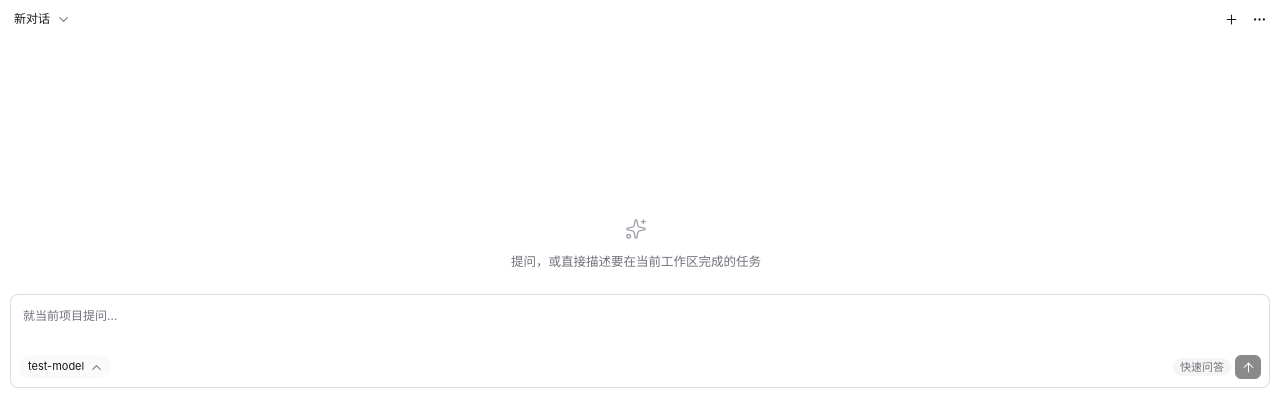
Test: preserves a new draft typed while the previous question is being saved
This screenshot has width=1280, height=405.
Type "First question" into the text box named "向 AI 提问".
click(640, 329); type("First question")  # box x1=19 y1=303 x2=1261 y2=355
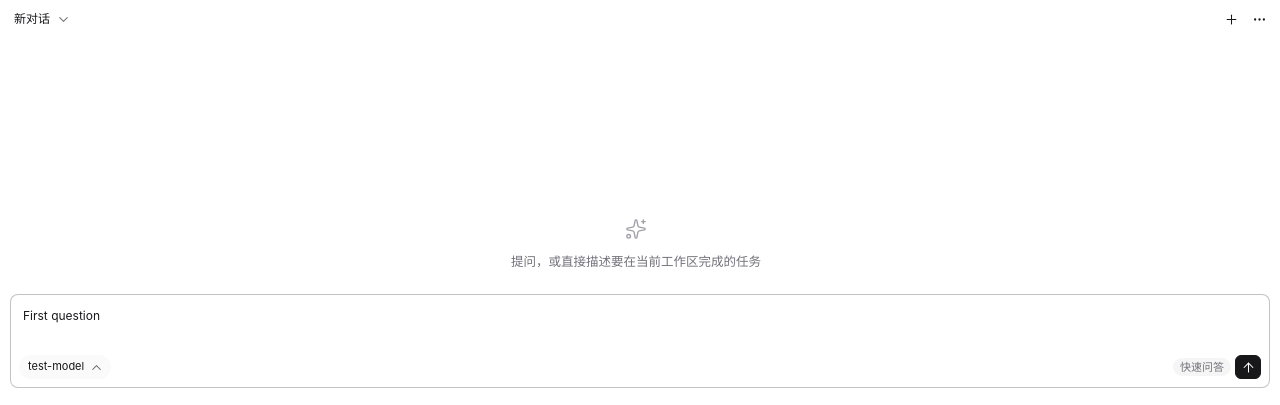
Click the button named "发送".
click(1248, 367)  # box x1=1235 y1=355 x2=1261 y2=379
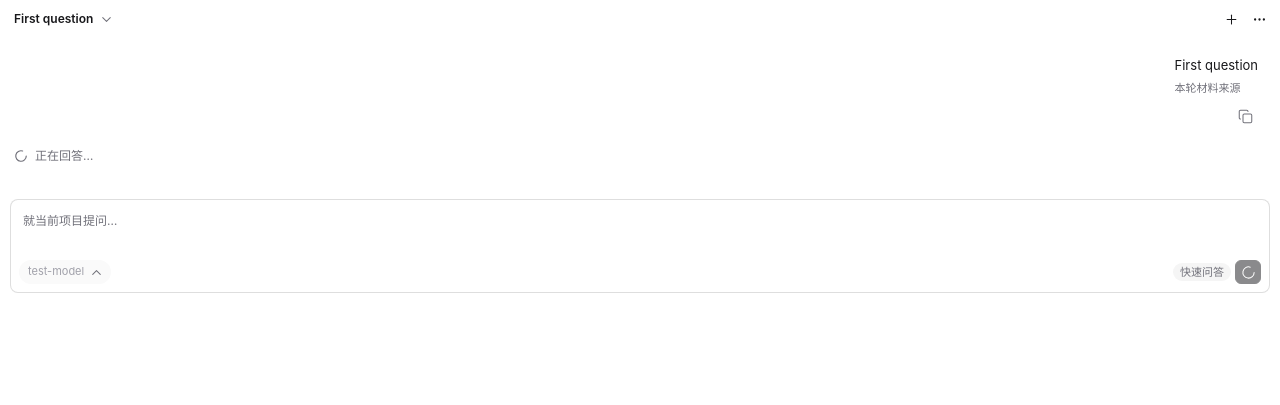
expect the text box named "向 AI 提问" is empty: met
Type "Next question" into the text box named "向 AI 提问".
click(640, 234); type("Next question")  # box x1=19 y1=208 x2=1261 y2=260
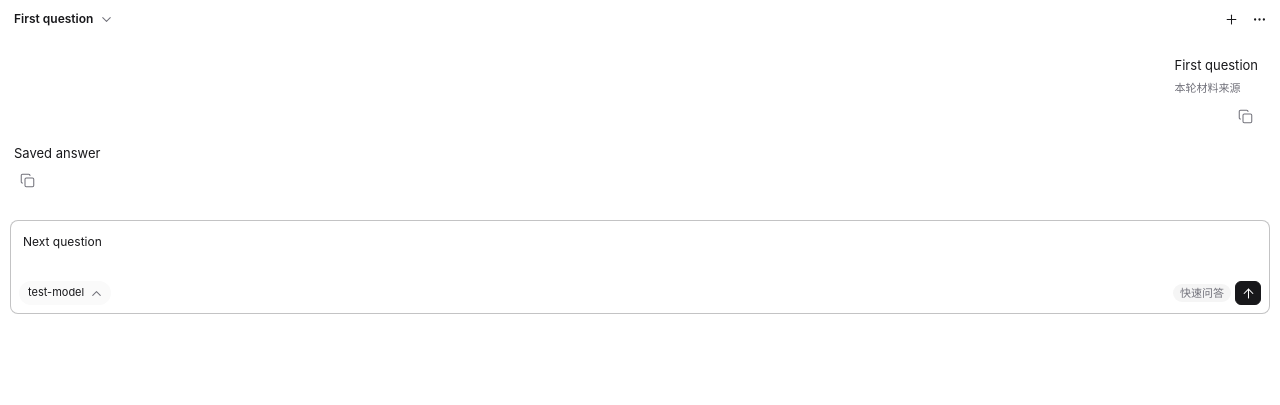
expect the text "Saved answer" is shown: met, box x1=14 y1=142 x2=100 y2=164
